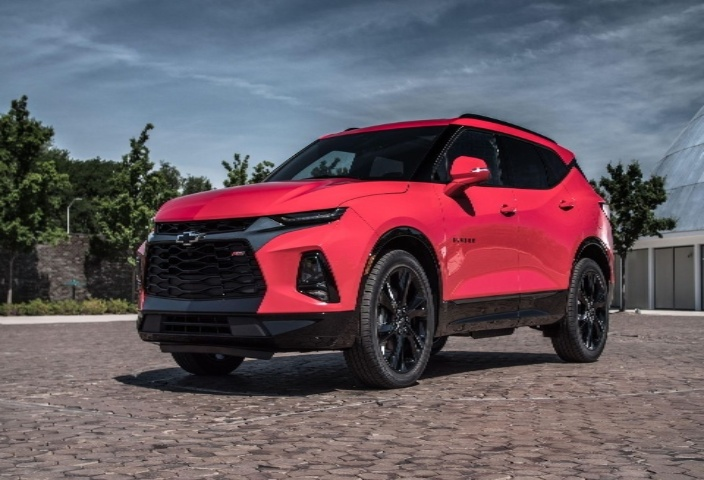camper: (127, 97, 629, 397)
